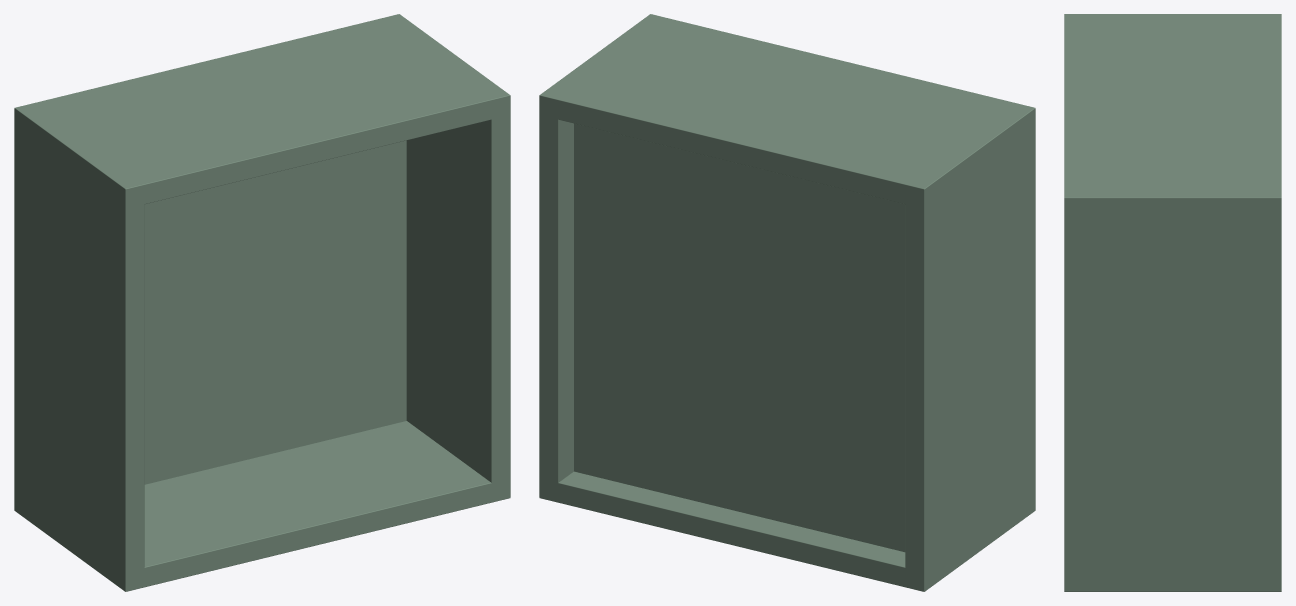
The model's file is MODH_1X1_A_B_VA.glb.
3 renders of one model, left to right at view 1: azimuth 30°, elevation 25°; view 2: azimuth 150°, elevation 25°; view 3: azimuth 270°, elevation 25°, orthographic. The views are drawn at different scales.
Size of the model in its own units: 360 by 360 by 180.
